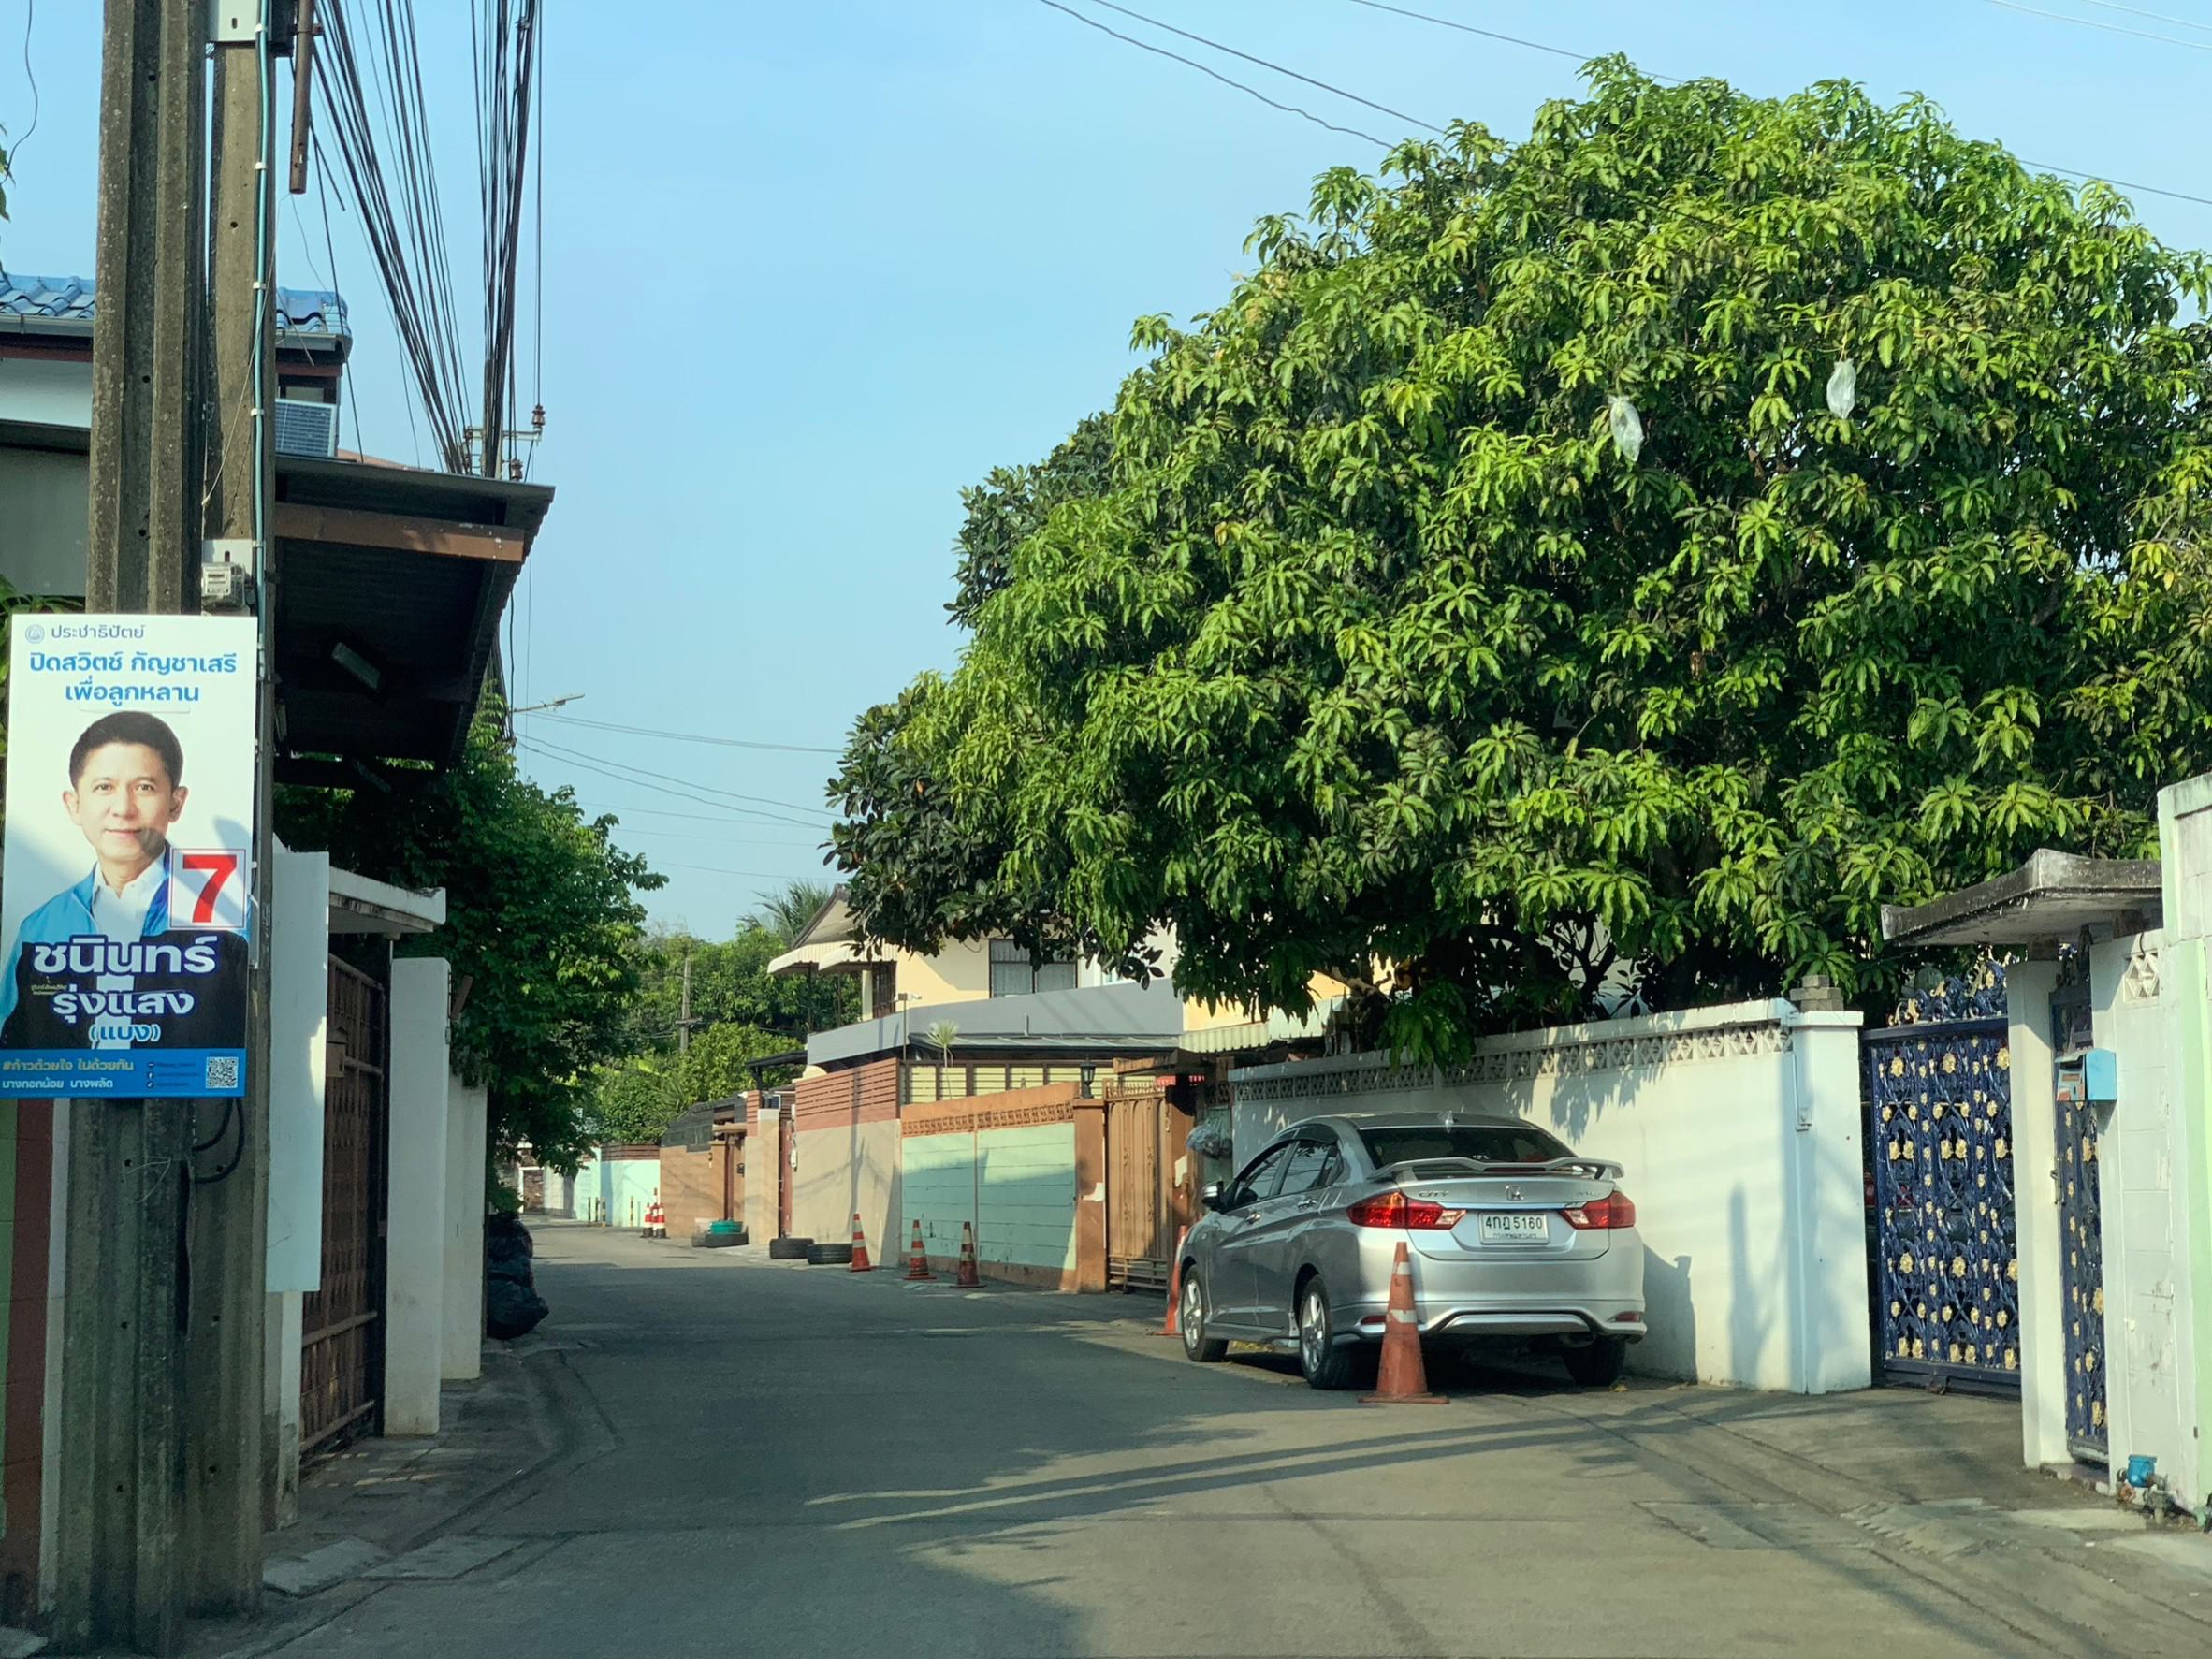Banner: (9, 615, 251, 1100)
